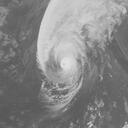cyclone: (37, 21, 92, 89)
